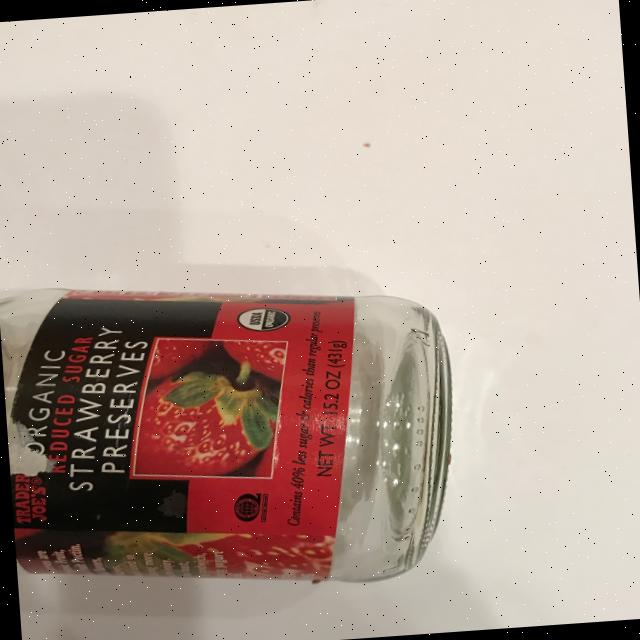glass: (0, 233, 494, 628)
